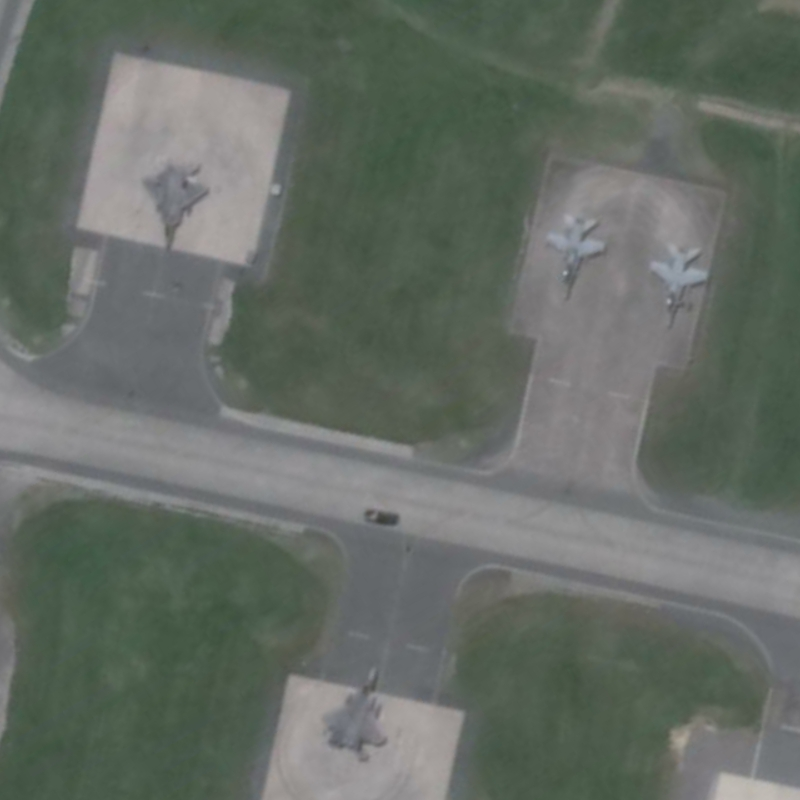A13: (132, 153, 218, 257), (314, 655, 392, 766)
A16: (539, 207, 614, 309), (644, 237, 717, 333)
